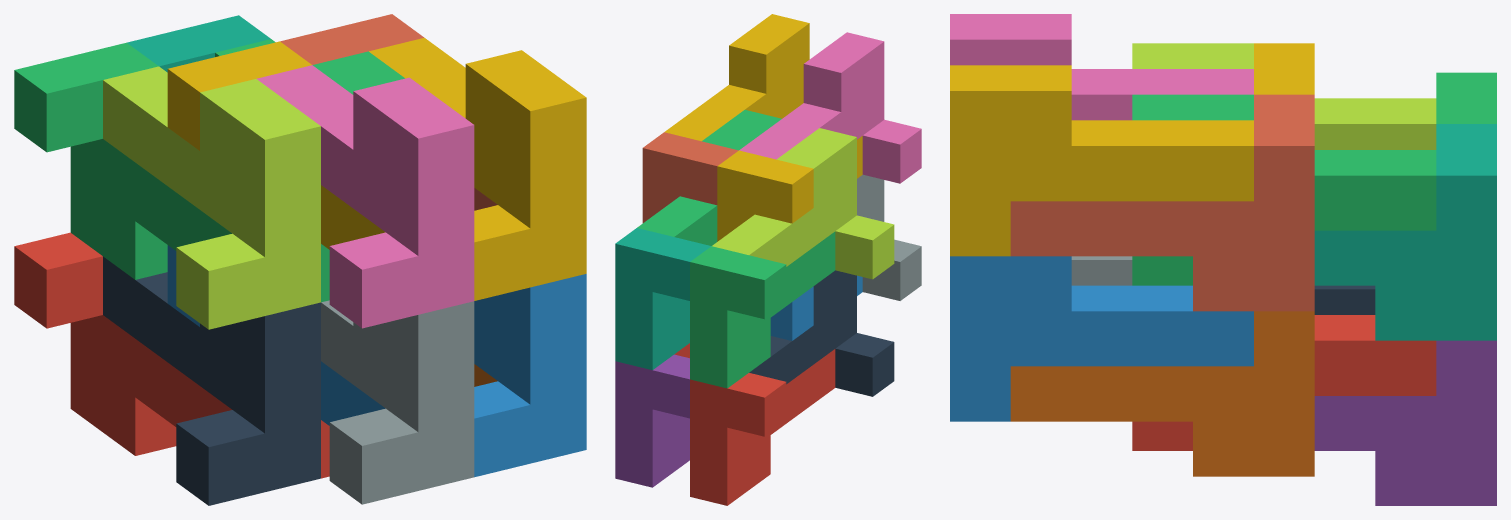
Rendered from tiling.obj.
3 views of the same model, side by side, from view 1: azimuth 30°, elevation 25°; view 2: azimuth 150°, elevation 25°; view 3: azimuth 270°, elevation 25° (orthographic). The views are drawn at different scales.
Parts seen in each view (by area): view 1: copy_2_domain_3, copy_2_domain_4, copy_2_domain_8, copy_2_domain_1, copy_2_domain_2, copy_1_domain_3, copy_1_domain_1, copy_2_domain_6, copy_1_domain_4, copy_1_domain_8, copy_1_domain_7, copy_2_domain_7 (+1 smaller); view 2: copy_1_domain_3, copy_2_domain_4, copy_1_domain_1, copy_2_domain_3, copy_1_domain_7, copy_1_domain_5, copy_2_domain_8, copy_2_domain_1, copy_1_domain_4, copy_1_domain_8, copy_2_domain_7, copy_2_domain_2 (+1 smaller); view 3: copy_2_domain_8, copy_1_domain_8, copy_2_domain_6, copy_1_domain_6, copy_1_domain_7, copy_1_domain_5, copy_2_domain_7, copy_2_domain_4, copy_2_domain_5, copy_2_domain_3, copy_1_domain_3, copy_1_domain_4 (+2 smaller).
Part boxes in pixels (<box>): copy_2_domain_3: <box>103,66,320,329</box>; copy_2_domain_4: <box>256,65,474,328</box>; copy_2_domain_8: <box>369,37,586,300</box>; copy_2_domain_1: <box>103,256,320,505</box>; copy_2_domain_2: <box>321,300,474,504</box>; copy_1_domain_3: <box>14,42,231,279</box>; copy_1_domain_1: <box>14,232,231,455</box>; copy_2_domain_6: <box>474,274,586,477</box>; copy_1_domain_4: <box>167,41,385,249</box>; copy_1_domain_8: <box>280,14,497,210</box>; copy_1_domain_7: <box>127,15,270,72</box>; copy_2_domain_7: <box>215,39,404,302</box>; copy_1_domain_3: <box>690,231,835,388</box>; copy_2_domain_4: <box>739,32,921,183</box>; copy_1_domain_1: <box>690,349,835,505</box>; copy_2_domain_3: <box>712,128,894,279</box>; copy_1_domain_7: <box>615,228,711,370</box>; copy_1_domain_5: <box>615,354,689,487</box>; copy_2_domain_8: <box>664,14,809,141</box>; copy_2_domain_1: <box>749,270,894,396</box>; copy_1_domain_4: <box>717,136,862,241</box>; copy_1_domain_8: <box>642,132,738,222</box>; copy_2_domain_7: <box>637,110,781,245</box>; copy_2_domain_2: <box>857,174,921,300</box>; copy_2_domain_8: <box>950,65,1253,256</box>; copy_1_domain_8: <box>1010,94,1314,311</box>; copy_2_domain_6: <box>950,256,1253,421</box>; copy_1_domain_6: <box>1010,311,1314,476</box>; copy_1_domain_7: <box>1314,124,1496,340</box>; copy_1_domain_5: <box>1314,340,1496,505</box>; copy_2_domain_7: <box>1132,94,1436,285</box>; copy_2_domain_4: <box>950,14,1253,120</box>; copy_2_domain_5: <box>1132,315,1436,450</box>; copy_2_domain_3: <box>1132,43,1436,149</box>; copy_1_domain_3: <box>1436,72,1496,123</box>; copy_1_domain_4: <box>1254,43,1314,94</box>.
Bounding box in the file's own units: 5 × 8 × 9.
